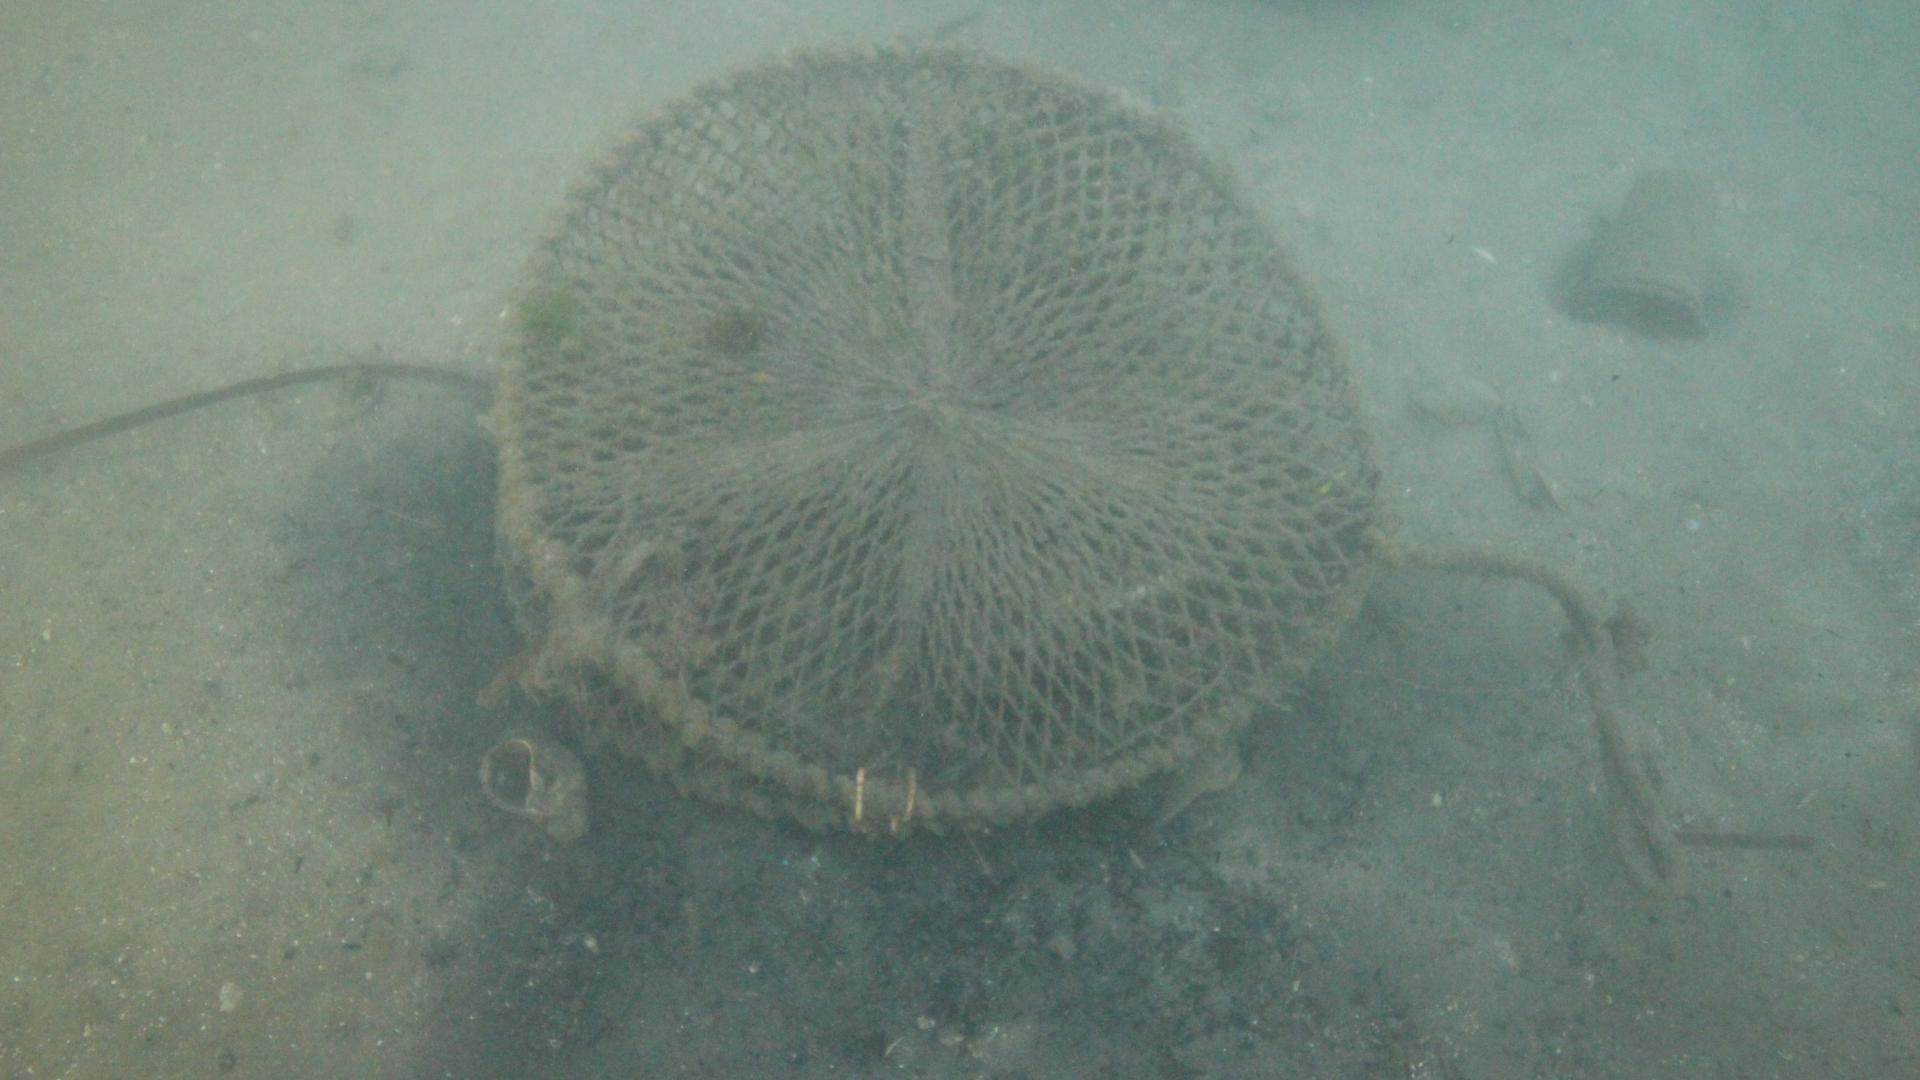circular fish trap: (489, 38, 1395, 844)
rope: (1403, 549, 1691, 895)
